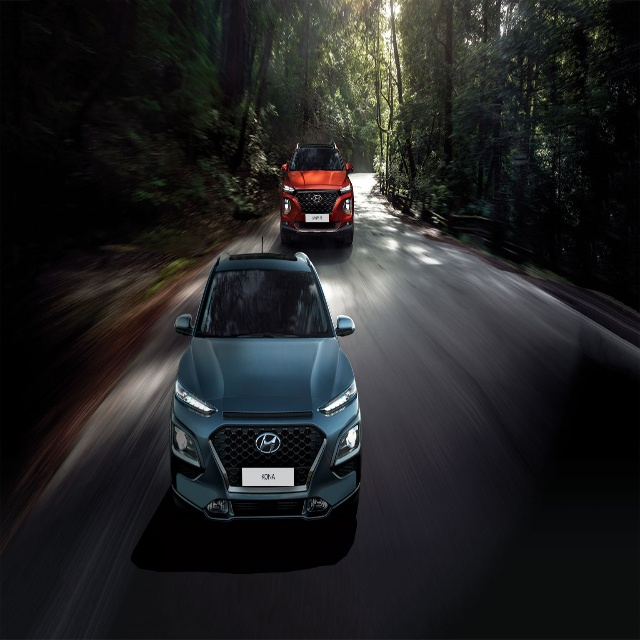Car: (168, 250, 362, 526), (280, 142, 354, 248)
